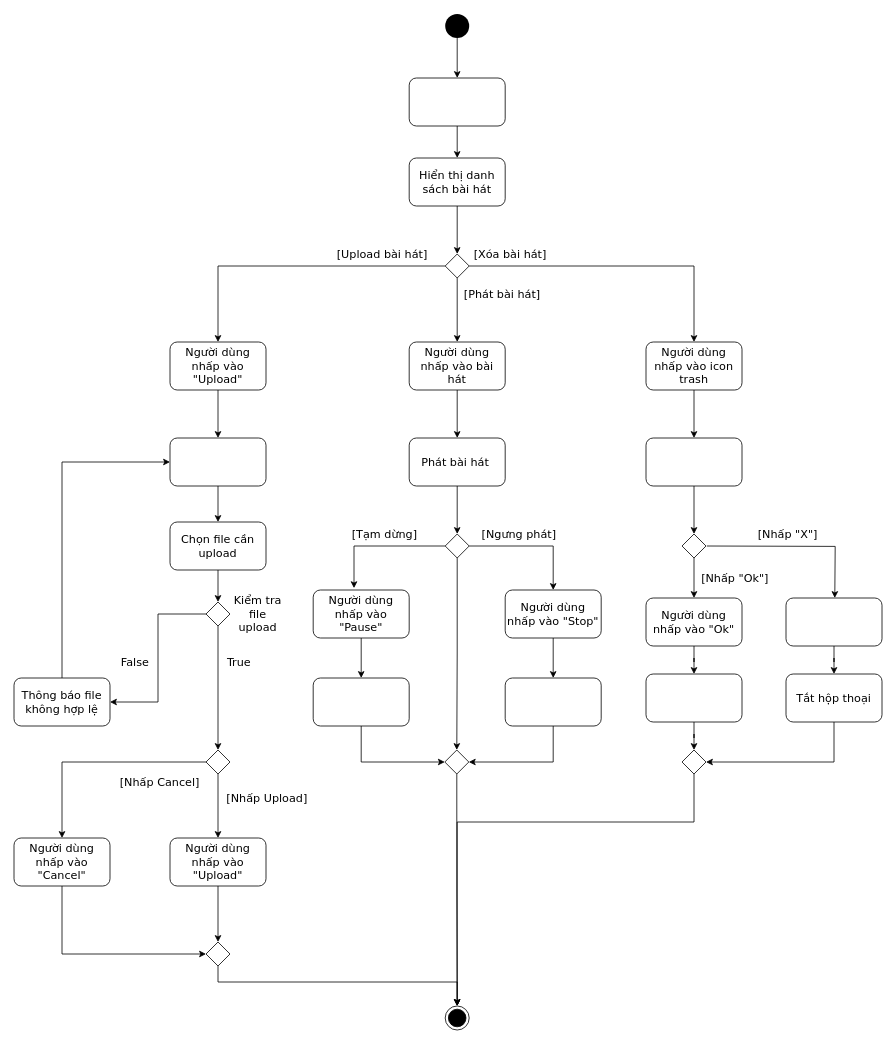
The diagram is 896 pixels wide and 1044 high, and some of its shapes have lost their labels. Here are the shapes that lost their labels. From the top down, the centre of each, then its label:
point 456,101: Nhấp vào "My Music"
point 217,461: Hiển thị hộp thoại upload
point 693,461: Hiển thị hộp thoại confirm
point 833,621: Người dùng nhấp vào "X"
point 360,701: Tạm dừng bài hát
point 552,701: Ngưng phát
point 693,697: Xóa bài hát
